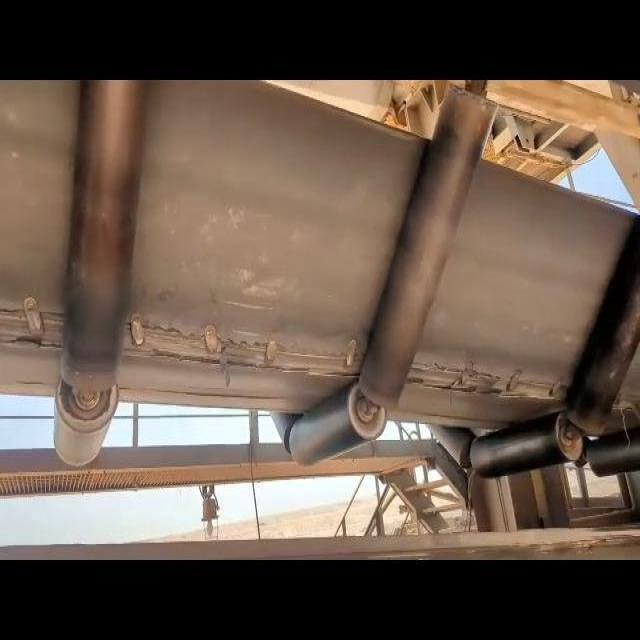Tear: (120, 306, 367, 388), (402, 360, 574, 408), (0, 289, 71, 360)
